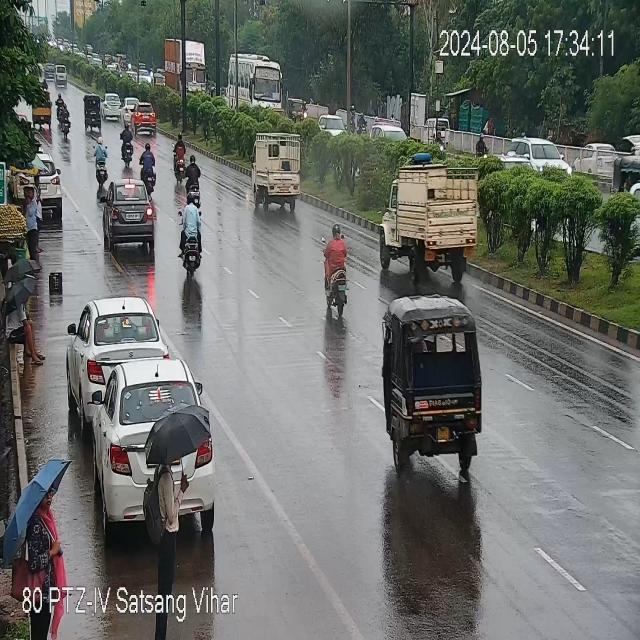2-wheelers: (322, 228, 357, 322), (180, 200, 210, 274), (92, 140, 111, 184), (140, 142, 156, 192), (186, 153, 203, 200), (174, 134, 188, 181), (119, 125, 135, 164), (60, 103, 70, 139), (55, 93, 64, 124)
auto: (382, 294, 486, 468), (82, 96, 102, 134)
bus: (229, 52, 280, 109)
car: (90, 362, 198, 464), (67, 296, 161, 406), (104, 179, 155, 253), (41, 154, 68, 214), (130, 99, 158, 131), (104, 91, 124, 120), (120, 92, 136, 122)
pedestrian: (144, 410, 208, 582), (18, 481, 70, 636), (3, 296, 42, 369), (25, 181, 39, 261), (34, 174, 45, 238)
truck: (382, 168, 484, 283), (251, 135, 307, 215), (164, 35, 211, 101)
